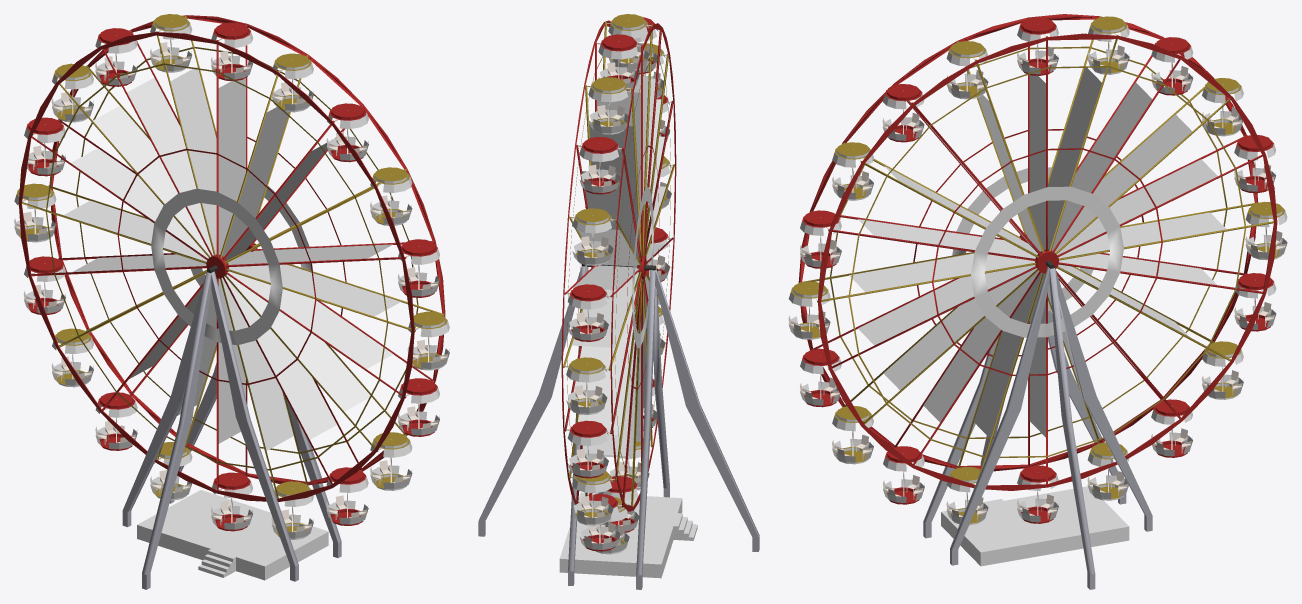
Rendered from Колесо обозрения.fbx.
The picture shows the model from 3 angles, left to right: view 1: azimuth 30°, elevation 25°; view 2: azimuth 150°, elevation 25°; view 3: azimuth 270°, elevation 25°; orthographic projection.
Parts seen in each view (by area): view 1: Sketchup, Компонент#1.001, Компонент#1, Компонент#5, Компонент#5.001, Компонент#4.007, Компонент#6.003, Компонент#4.001, Компонент#6.002, Компонент#6.009, Компонент#4.003, Компонент#6 (+13 smaller); view 2: Sketchup, Компонент#1.001, Компонент#5, Компонент#5.001, Компонент#1, Компонент#4, Компонент#4.009, Компонент#6.008, Компонент#6.004, Компонент#6.001, Компонент#4.005, Компонент#6.007 (+6 smaller); view 3: Sketchup, Компонент#1, Компонент#1.001, Компонент#5.001, Компонент#5, Компонент#4.007, Компонент#4.001, Компонент#4.003, Компонент#6, Компонент#6.003, Компонент#4.006, Компонент#4.008 (+13 smaller).
Boxes of the visible parts, bbox=[...] form: Sketchup: bbox=[64, 66, 400, 580]; Компонент#1.001: bbox=[18, 31, 415, 501]; Компонент#1: bbox=[48, 15, 445, 485]; Компонент#5: bbox=[122, 271, 298, 589]; Компонент#5.001: bbox=[169, 248, 341, 557]; Компонент#4.007: bbox=[398, 378, 439, 436]; Компонент#6.003: bbox=[370, 432, 412, 490]; Компонент#4.001: bbox=[211, 22, 252, 81]; Компонент#6.002: bbox=[408, 311, 449, 370]; Компонент#6.009: bbox=[370, 167, 412, 225]; Компонент#4.003: bbox=[327, 103, 368, 162]; Компонент#6: bbox=[272, 53, 313, 112]; Sketchup: bbox=[559, 76, 697, 578]; Компонент#1.001: bbox=[608, 23, 676, 511]; Компонент#5: bbox=[636, 269, 759, 589]; Компонент#5.001: bbox=[478, 266, 598, 585]; Компонент#1: bbox=[561, 20, 611, 504]; Компонент#4: bbox=[579, 137, 620, 194]; Компонент#4.009: bbox=[567, 420, 608, 478]; Компонент#6.008: bbox=[566, 357, 607, 414]; Компонент#6.004: bbox=[572, 208, 613, 265]; Компонент#6.001: bbox=[588, 77, 629, 134]; Компонент#4.005: bbox=[567, 284, 608, 341]; Компонент#6.007: bbox=[572, 471, 613, 525]; Sketchup: bbox=[849, 68, 1226, 566]; Компонент#1: bbox=[817, 33, 1277, 490]; Компонент#1.001: bbox=[798, 14, 1258, 471]; Компонент#5.001: bbox=[950, 267, 1152, 589]; Компонент#5: bbox=[923, 310, 1126, 538]; Компонент#4.007: bbox=[800, 348, 841, 407]; Компонент#4.001: bbox=[1017, 17, 1058, 75]; Компонент#4.003: bbox=[882, 84, 924, 142]; Компонент#6: bbox=[946, 41, 988, 99]; Компонент#6.003: bbox=[832, 406, 873, 464]; Компонент#4.006: bbox=[1151, 399, 1192, 457]; Компонент#4.008: bbox=[883, 446, 924, 504].
Size of the model in its own units: 1139 by 2393 by 2126.
